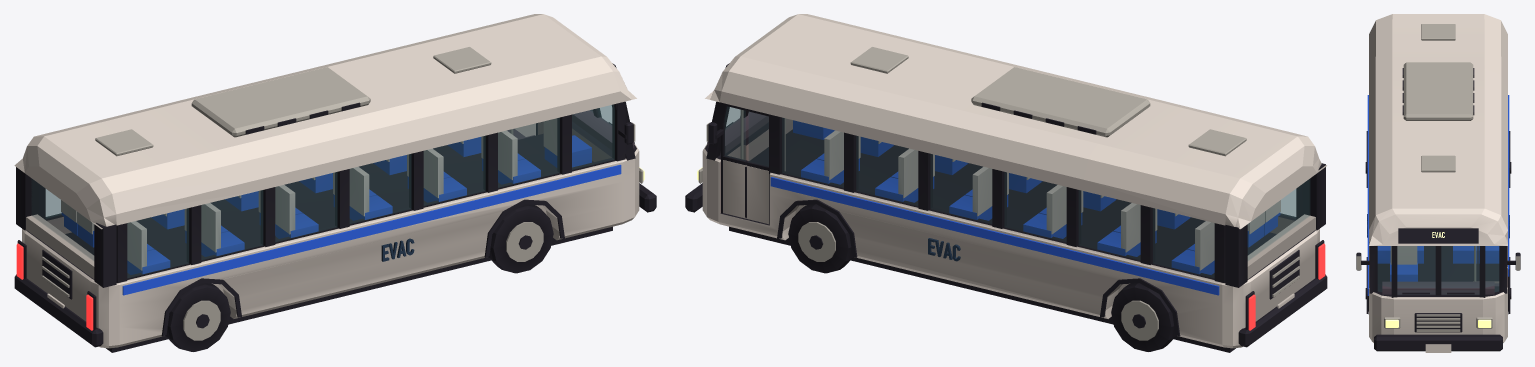
3 renders of one model, left to right at view 1: azimuth 30°, elevation 25°; view 2: azimuth 150°, elevation 25°; view 3: azimuth 270°, elevation 25°, orthographic. The views are drawn at different scales.
Visible parts, largest first — view 1: body_pal_picketWhite, body_pal_uiDark, body_pal_backpackTeal, body_pal_policeBlue, body_pal_silver, wheelRL_pal_uiDark, wheelFL_pal_uiDark, wheelRL_pal_silver, wheelFL_pal_silver, body_pal_asphalt, body_pal_sidewalk, lightsBrake_emi_sirenRed; view 2: body_pal_picketWhite, body_pal_uiDark, body_pal_backpackTeal, body_pal_policeBlue, body_pal_silver, doorR_pal_picketWhite, wheelRR_pal_uiDark, wheelFR_pal_uiDark, doorR_pal_backpackTeal, wheelRR_pal_silver, wheelFR_pal_silver, body_pal_sidewalk (+3 smaller); view 3: body_pal_picketWhite, body_pal_uiDark, body_pal_silver, body_pal_backpackTeal, body_pal_policeBlue, body_pal_asphalt, lightsFront_emi_windowGlow.
Boxes of the visible parts, bbox=[...] form: body_pal_picketWhite: bbox=[14, 14, 639, 348]; body_pal_uiDark: bbox=[14, 63, 656, 352]; body_pal_backpackTeal: bbox=[31, 105, 614, 277]; body_pal_policeBlue: bbox=[61, 135, 621, 295]; body_pal_silver: bbox=[41, 47, 643, 297]; wheelRL_pal_uiDark: bbox=[165, 283, 230, 351]; wheelFL_pal_uiDark: bbox=[488, 204, 553, 273]; wheelRL_pal_silver: bbox=[183, 300, 220, 340]; wheelFL_pal_silver: bbox=[506, 222, 543, 261]; body_pal_asphalt: bbox=[507, 110, 634, 149]; body_pal_sidewalk: bbox=[47, 122, 611, 233]; lightsBrake_emi_sirenRed: bbox=[16, 243, 93, 330]; body_pal_picketWhite: bbox=[702, 14, 1326, 348]; body_pal_uiDark: bbox=[685, 63, 1327, 352]; body_pal_backpackTeal: bbox=[726, 107, 1309, 277]; body_pal_policeBlue: bbox=[770, 120, 1280, 295]; body_pal_silver: bbox=[698, 47, 1300, 297]; doorR_pal_picketWhite: bbox=[723, 160, 768, 224]; wheelRR_pal_uiDark: bbox=[1111, 283, 1176, 351]; wheelFR_pal_uiDark: bbox=[788, 204, 853, 273]; doorR_pal_backpackTeal: bbox=[725, 106, 768, 166]; wheelRR_pal_silver: bbox=[1121, 300, 1158, 340]; wheelFR_pal_silver: bbox=[798, 222, 835, 261]; body_pal_sidewalk: bbox=[720, 118, 1294, 233]; body_pal_picketWhite: bbox=[1369, 14, 1507, 352]; body_pal_uiDark: bbox=[1356, 68, 1520, 351]; body_pal_silver: bbox=[1356, 24, 1520, 331]; body_pal_backpackTeal: bbox=[1378, 246, 1498, 294]; body_pal_policeBlue: bbox=[1367, 95, 1509, 295]; body_pal_asphalt: bbox=[1382, 281, 1499, 294]; lightsFront_emi_windowGlow: bbox=[1385, 319, 1491, 327].
Size of the model in its own units: 9.38 by 3.04 by 2.95.
